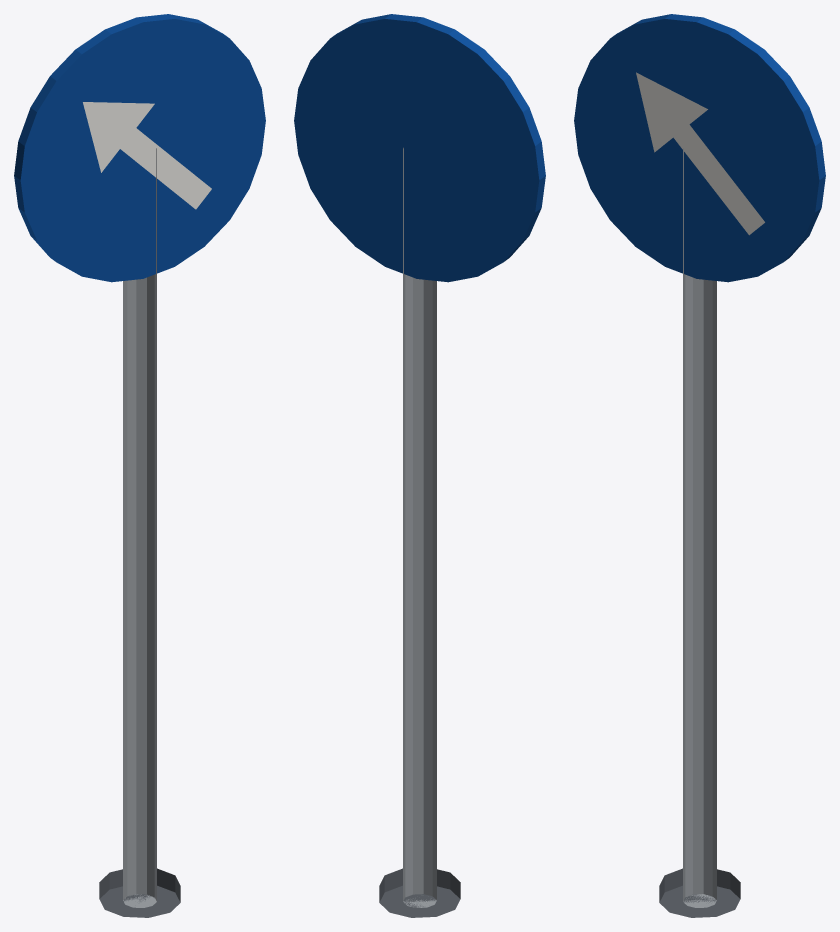
File: sign-keepright.glb
The picture shows the model from 3 angles, left to right: view 1: azimuth 30°, elevation 25°; view 2: azimuth 150°, elevation 25°; view 3: azimuth 330°, elevation 25°; orthographic projection.
Parts seen in each view (by area): view 1: sign-keepright; view 2: sign-keepright; view 3: sign-keepright.
Boxes of the visible parts, x1=… form: sign-keepright: x1=14, y1=14, x2=265, y2=917; sign-keepright: x1=294, y1=14, x2=545, y2=917; sign-keepright: x1=574, y1=14, x2=825, y2=917.
Bounding box in the file's own units: 0.75 × 2.58 × 0.2054.
